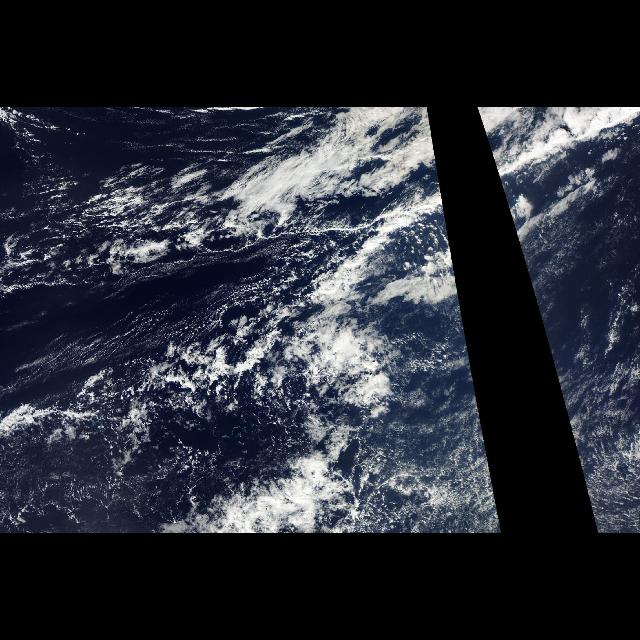Sugar: (398, 309, 504, 533), (536, 309, 640, 533), (12, 244, 148, 388), (11, 467, 266, 499)
